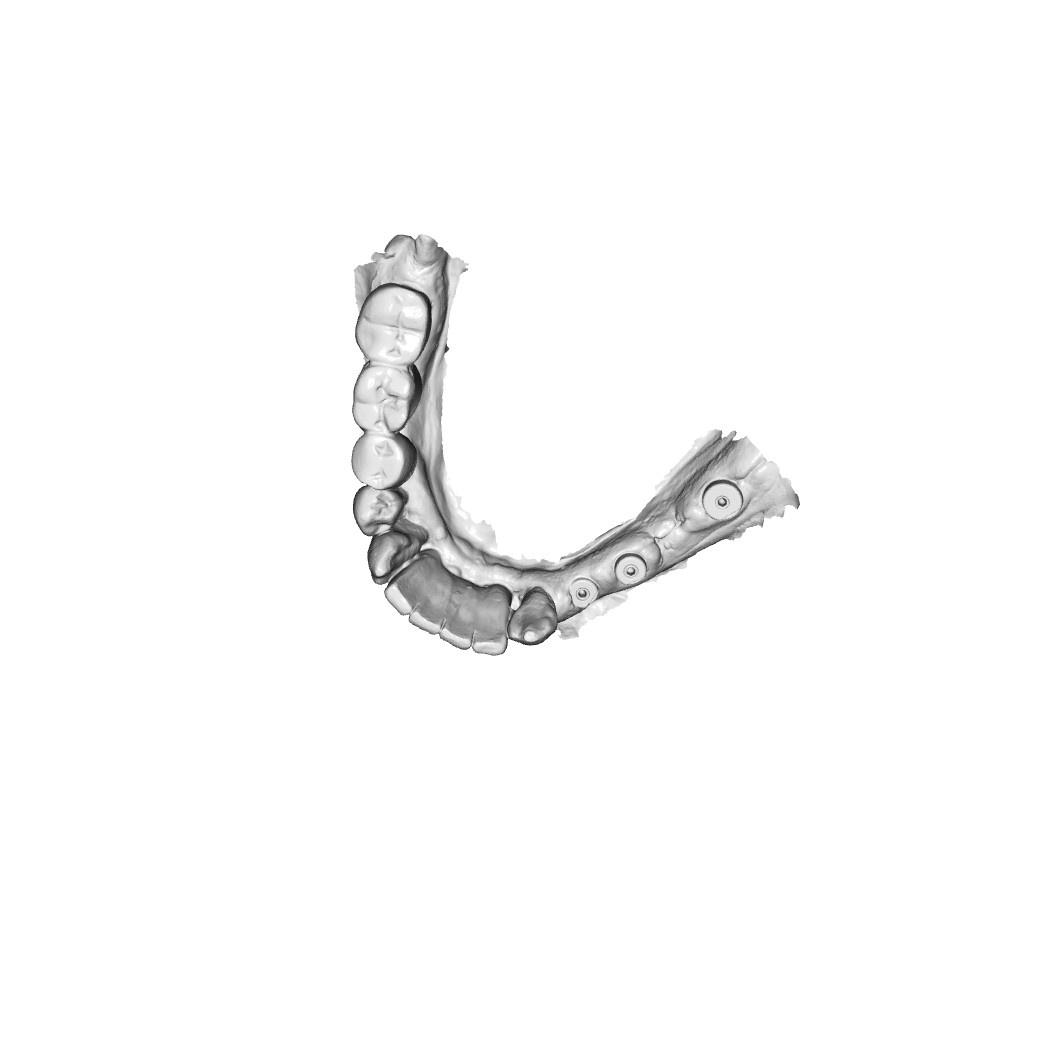canine: (365, 527, 426, 586), (507, 587, 559, 647)
implant: (701, 475, 748, 529), (615, 542, 651, 590), (568, 572, 600, 612)
incisor: (381, 560, 434, 617), (407, 576, 451, 636), (435, 586, 476, 650), (465, 602, 510, 658)
molar: (354, 281, 433, 368), (351, 364, 420, 435)
premolar: (349, 431, 418, 490), (351, 483, 409, 540)
